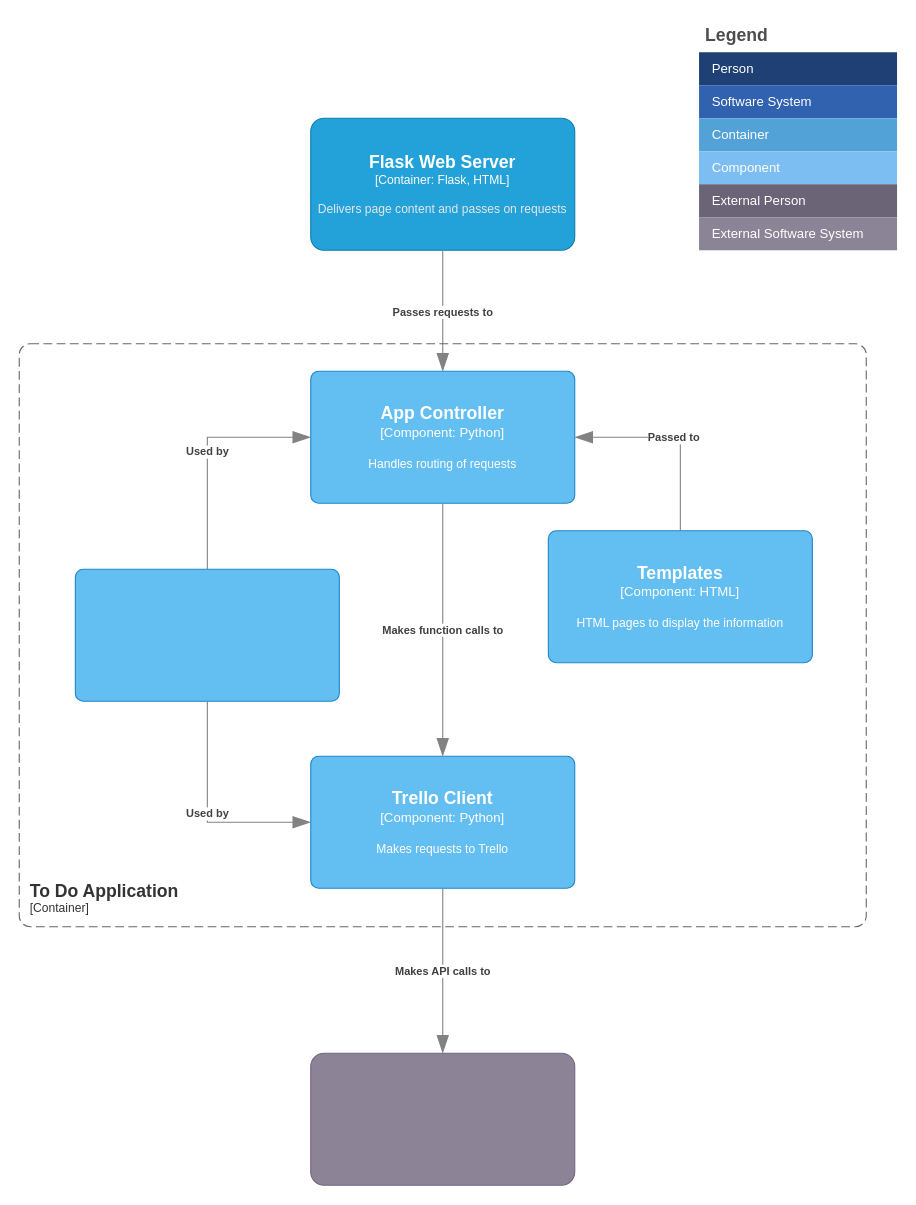
The diagram is 916 pixels wide and 1205 high, and some of its shapes have lost their labels. The centre of each missing label's shape, as x and y in pixels:
Items [Component: Python Class] Python class that represents a To Do item: the point at 206,634
Trello [Software System] Stores the To Do items: the point at 442,1118
